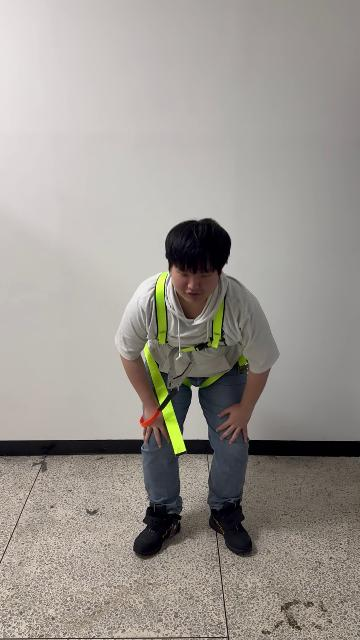helmet_not_worn: (166, 217, 231, 273)
helmet_worn: (139, 273, 246, 452)
shoe_worn: (132, 504, 181, 555), (209, 502, 251, 555)
